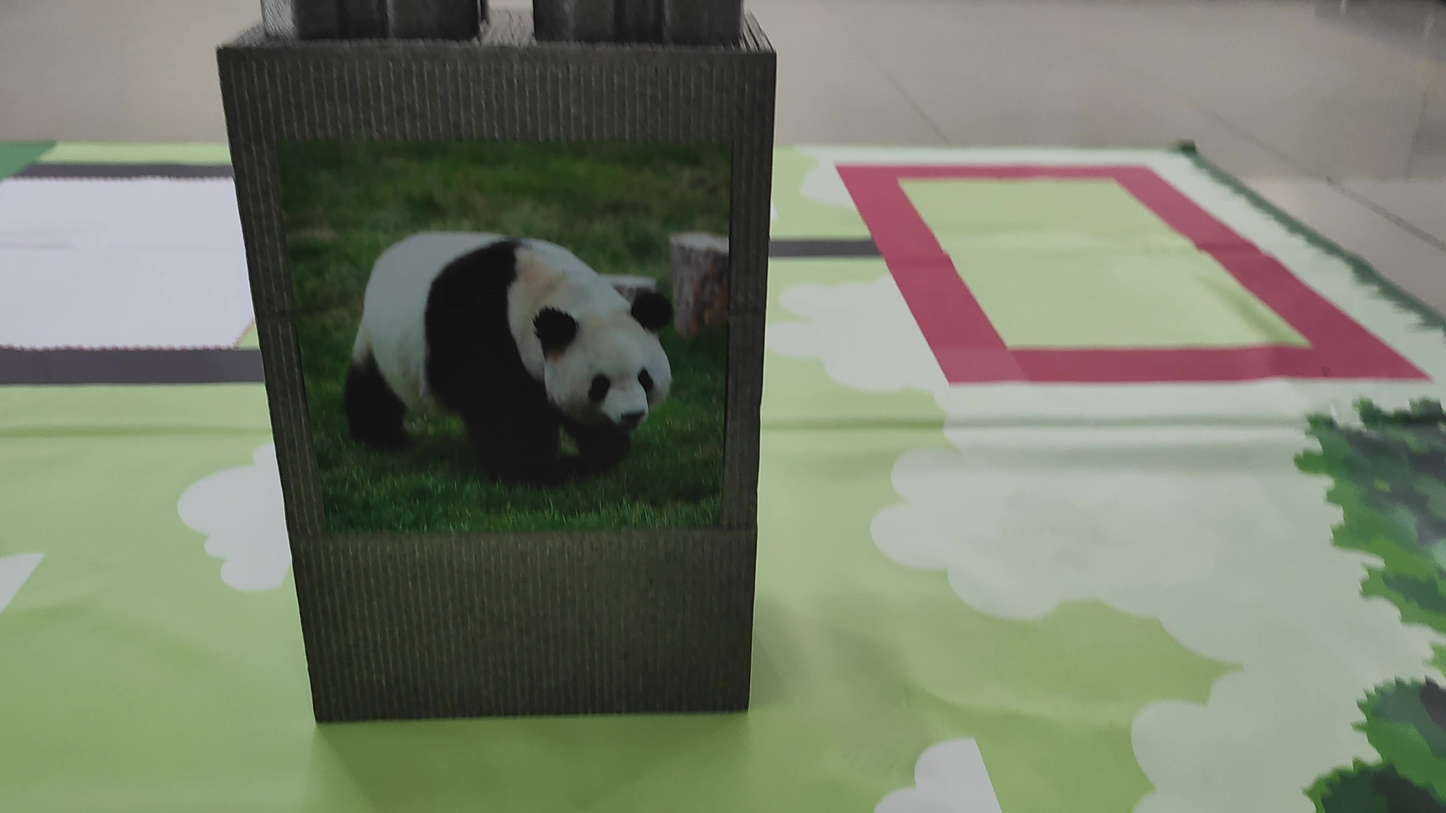panda: (324, 201, 667, 502)
